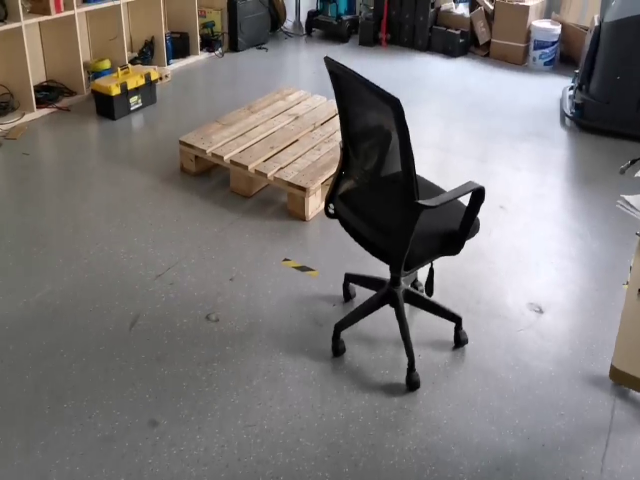block: (282, 180, 321, 221), (178, 140, 207, 177), (230, 166, 255, 198)
front: (177, 140, 307, 225)
hole pallet: (192, 153, 230, 195), (252, 175, 283, 212)
